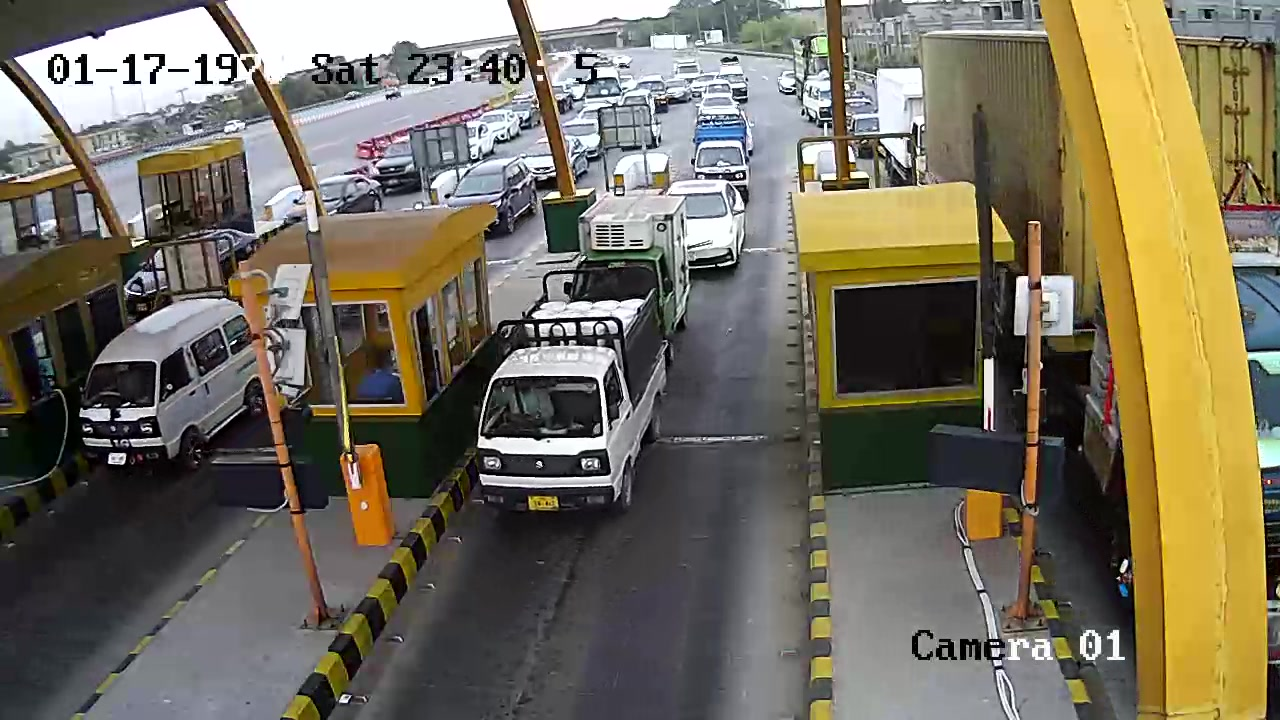F1: (466, 265, 669, 527)
